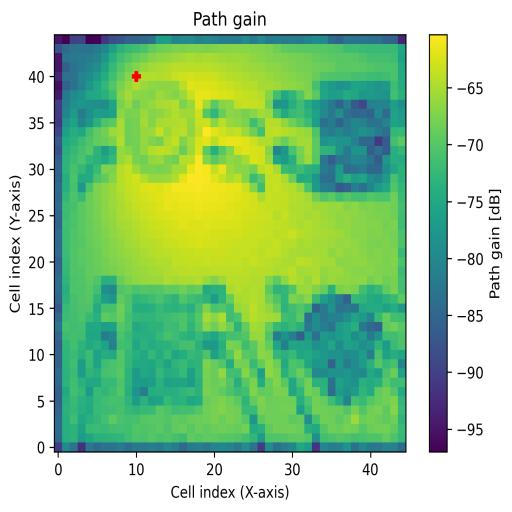Concrete: (305, 79, 390, 202)
Glass: (124, 80, 196, 182)
Metal: (274, 283, 383, 406)
Wood: (125, 285, 202, 406)
